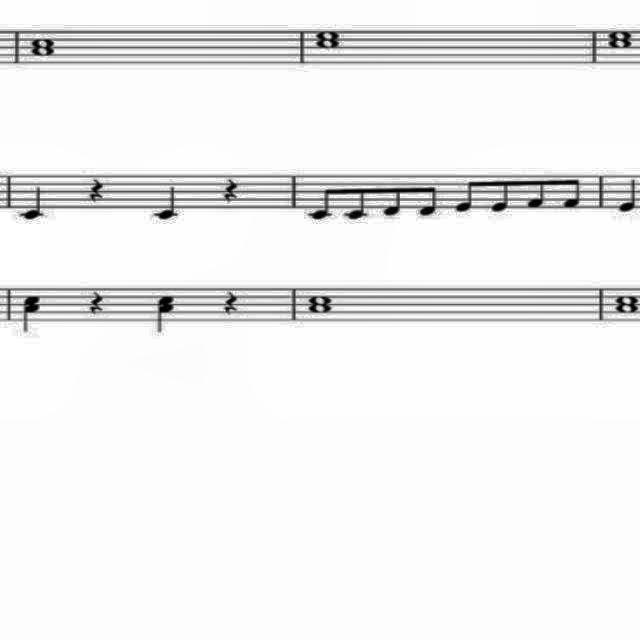Eighth-note: (300, 178, 336, 226), (452, 170, 480, 220), (342, 177, 370, 225), (488, 172, 516, 220), (524, 161, 548, 217), (556, 170, 586, 214), (416, 177, 440, 225), (381, 178, 405, 222)
Quarter-note: (152, 180, 188, 224), (18, 183, 54, 221), (615, 175, 640, 213), (639, 175, 640, 213)
Quarter-rest: (82, 172, 110, 208), (220, 175, 247, 203), (220, 287, 244, 317), (87, 286, 109, 316)
